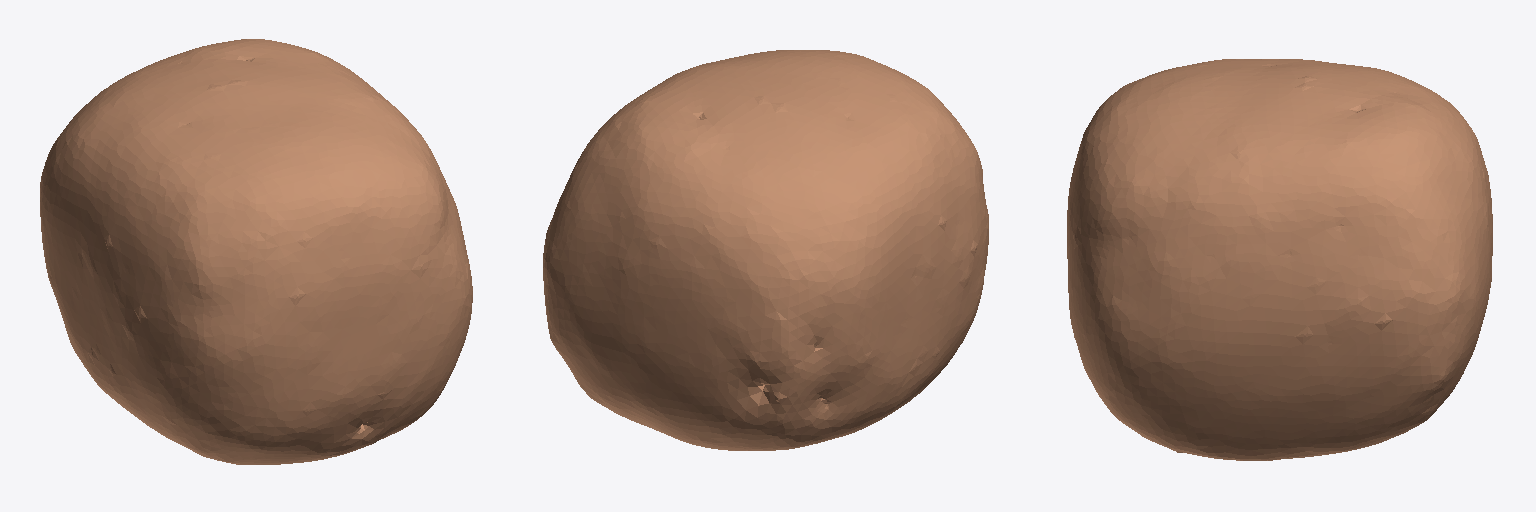
The model's file is chaji1.obj.
The picture shows the model from 3 angles: view 1: azimuth 30°, elevation 25°; view 2: azimuth 150°, elevation 25°; view 3: azimuth 270°, elevation 25°; orthographic projection.
Bounding box in the file's own units: 0.4488 × 0.4368 × 0.5053.